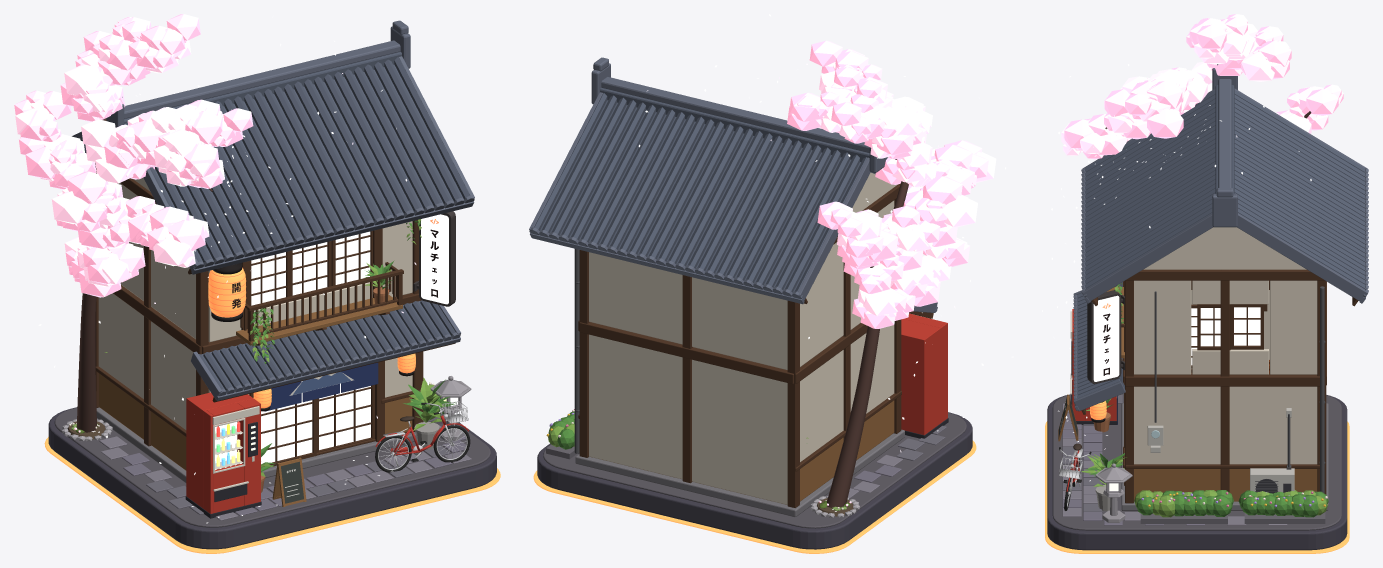
Rendered from izakaya.glb.
The picture shows the model from 3 angles, left to right: view 1: azimuth 30°, elevation 25°; view 2: azimuth 150°, elevation 25°; view 3: azimuth 270°, elevation 25°; orthographic projection. The views are drawn at different scales.
Visible parts, largest first — view 1: BLD_Roof_Front, VEG_Sakura_Blossoms, BLD_Wall_Left, BLD_Hisashi, BASE_Slab, PROP_vending_booth, BASE_Paving, BLD_Door_Shoji, BLD_Roof_Ridge, BASE_Tiles, BLD_Window_Shoji, BLD_Balcony (+17 smaller); view 2: BLD_Roof_Back, BLD_Wall_Back, VEG_Sakura_Blossoms, BLD_Wall_Left, BASE_Slab, BLD_Roof_Ridge, BASE_Paving, PROP_vending_booth, BLD_Plinth, VEG_Sakura_Branches, BASE_RimGlow, BASE_Tiles (+4 smaller); view 3: BLD_Wall_Right, BLD_Roof_Back, BLD_Roof_Front, VEG_Sakura_Blossoms, BASE_Slab, BASE_Paving, VEG_Hedge, BLD_Gable_R, BLD_Roof_Ridge, BASE_Tiles, SIGN_Blade, BLD_SideWindow_Shoji (+11 smaller).
Boxes of the visible parts, left/top/right/bottom form: BLD_Roof_Front: left=124, top=56, right=474, bottom=274; VEG_Sakura_Blossoms: left=14, top=14, right=253, bottom=297; BLD_Wall_Left: left=95, top=163, right=208, bottom=470; BLD_Hisashi: left=191, top=300, right=460, bottom=402; BASE_Slab: left=48, top=407, right=496, bottom=549; PROP_vending_booth: left=185, top=392, right=261, bottom=518; BASE_Paving: left=54, top=408, right=490, bottom=527; BLD_Door_Shoji: left=261, top=381, right=374, bottom=466; BLD_Roof_Ridge: left=106, top=20, right=410, bottom=127; BASE_Tiles: left=99, top=425, right=471, bottom=520; BLD_Window_Shoji: left=251, top=231, right=372, bottom=305; BLD_Balcony: left=236, top=262, right=403, bottom=345; BLD_Roof_Back: left=529, top=92, right=870, bottom=304; BLD_Wall_Back: left=579, top=250, right=793, bottom=504; VEG_Sakura_Blossoms: left=787, top=40, right=996, bottom=328; BLD_Wall_Left: left=787, top=184, right=901, bottom=507; BASE_Slab: left=537, top=412, right=972, bottom=549; BLD_Roof_Ridge: left=591, top=57, right=887, bottom=172; BASE_Paving: left=543, top=412, right=966, bottom=528; PROP_vending_booth: left=901, top=313, right=948, bottom=438; BLD_Plinth: left=575, top=429, right=904, bottom=516; VEG_Sakura_Branches: left=826, top=159, right=908, bottom=507; BASE_RimGlow: left=533, top=440, right=976, bottom=553; BASE_Tiles: left=578, top=425, right=946, bottom=498; BLD_Wall_Right: left=1125, top=269, right=1324, bottom=503; BLD_Roof_Back: left=1234, top=88, right=1368, bottom=306; BLD_Roof_Front: left=1081, top=88, right=1215, bottom=305; VEG_Sakura_Blossoms: left=1061, top=14, right=1343, bottom=159; BASE_Slab: left=1047, top=394, right=1347, bottom=550; BASE_Paving: left=1052, top=393, right=1341, bottom=530; VEG_Hedge: left=1134, top=490, right=1328, bottom=517; BLD_Gable_R: left=1143, top=227, right=1306, bottom=269; BLD_Roof_Ridge: left=1212, top=64, right=1237, bottom=227; BASE_Tiles: left=1062, top=395, right=1287, bottom=525; SIGN_Blade: left=1087, top=290, right=1124, bottom=384; BLD_SideWindow_Shoji: left=1197, top=304, right=1263, bottom=350.
Size of the model in its own units: 7.27 by 8.37 by 5.88.
